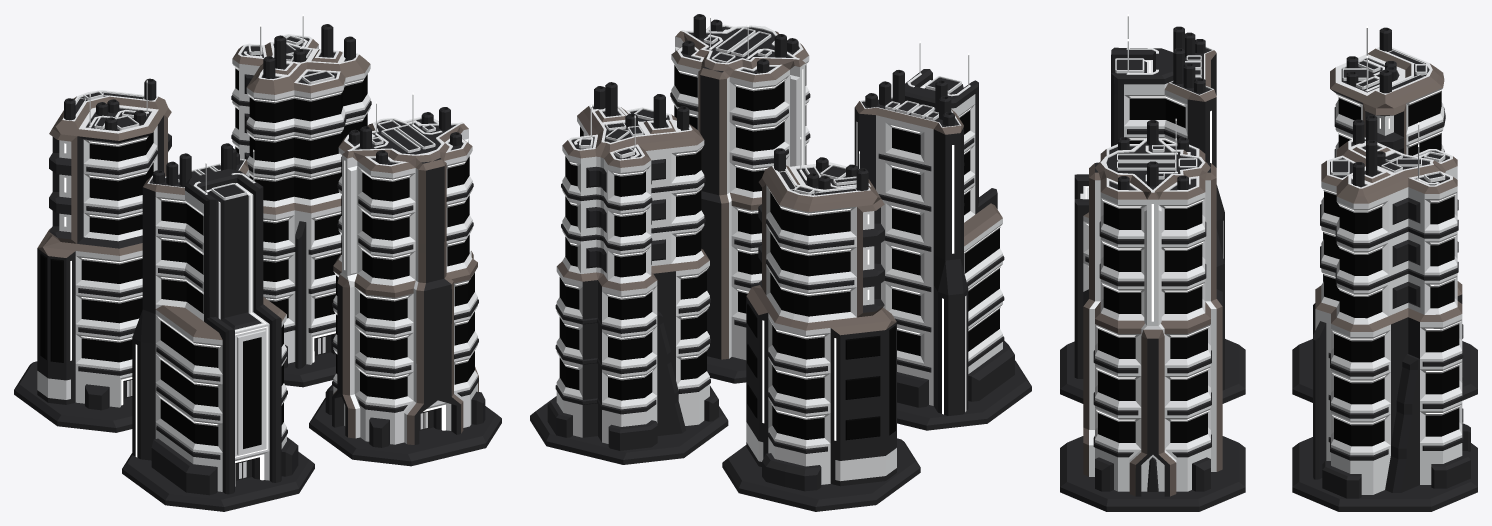
3 views of the same model, side by side, from view 1: azimuth 30°, elevation 25°; view 2: azimuth 150°, elevation 25°; view 3: azimuth 270°, elevation 25° (orthographic). The views are drawn at different scales.
Visible parts, largest first — view 1: Apartment_lvl3_1_Body, Apartment_lvl3_2_Body, Apartment_lvl3_3_Body, Apartment_lvl3_4_Body, Apartment_lvl3_2_Foundation, Apartment_lvl3_1_Foundation, Apartment_lvl3_3_Foundation, Apartment_lvl3_2_Parts, Apartment_lvl3_4_Parts, Apartment_lvl3_1_Parts, Apartment_lvl3_3_Parts, Apartment_lvl3_4_Foundation; view 2: Apartment_lvl3_4_Body, Apartment_lvl3_3_Body, Apartment_lvl3_1_Body, Apartment_lvl3_2_Body, Apartment_lvl3_3_Foundation, Apartment_lvl3_4_Foundation, Apartment_lvl3_1_Foundation, Apartment_lvl3_4_Parts, Apartment_lvl3_1_Parts, Apartment_lvl3_2_Parts, Apartment_lvl3_3_Parts, Apartment_lvl3_2_Foundation; view 3: Apartment_lvl3_4_Body, Apartment_lvl3_2_Body, Apartment_lvl3_1_Body, Apartment_lvl3_3_Body, Apartment_lvl3_2_Foundation, Apartment_lvl3_4_Foundation, Apartment_lvl3_4_Parts, Apartment_lvl3_2_Parts, Apartment_lvl3_1_Parts, Apartment_lvl3_1_Foundation, Apartment_lvl3_3_Parts, Apartment_lvl3_3_Foundation.
Boxes of the visible parts, <box> form: Apartment_lvl3_1_Body: <box>132,159,298,495</box>; Apartment_lvl3_2_Body: <box>325,117,485,447</box>; Apartment_lvl3_3_Body: <box>37,90,171,410</box>; Apartment_lvl3_4_Body: <box>231,34,371,368</box>; Apartment_lvl3_2_Foundation: <box>309,398,501,466</box>; Apartment_lvl3_1_Foundation: <box>122,451,314,511</box>; Apartment_lvl3_3_Foundation: <box>14,361,132,432</box>; Apartment_lvl3_2_Parts: <box>349,92,461,164</box>; Apartment_lvl3_4_Parts: <box>243,14,355,84</box>; Apartment_lvl3_1_Parts: <box>153,143,255,200</box>; Apartment_lvl3_3_Parts: <box>64,78,156,130</box>; Apartment_lvl3_4_Foundation: <box>284,352,335,387</box>; Apartment_lvl3_4_Body: <box>547,104,718,450</box>; Apartment_lvl3_3_Body: <box>746,162,896,491</box>; Apartment_lvl3_1_Body: <box>854,69,1014,415</box>; Apartment_lvl3_2_Body: <box>670,24,810,359</box>; Apartment_lvl3_3_Foundation: <box>722,438,920,511</box>; Apartment_lvl3_4_Foundation: <box>530,396,728,464</box>; Apartment_lvl3_1_Foundation: <box>897,360,1031,430</box>; Apartment_lvl3_4_Parts: <box>574,82,689,158</box>; Apartment_lvl3_1_Parts: <box>865,41,970,126</box>; Apartment_lvl3_2_Parts: <box>682,14,798,72</box>; Apartment_lvl3_3_Parts: <box>774,137,868,195</box>; Apartment_lvl3_2_Foundation: <box>707,356,746,383</box>; Apartment_lvl3_4_Body: <box>1313,137,1470,498</box>; Apartment_lvl3_2_Body: <box>1083,137,1222,496</box>; Apartment_lvl3_1_Body: <box>1074,46,1224,390</box>; Apartment_lvl3_3_Body: <box>1323,47,1445,281</box>; Apartment_lvl3_2_Foundation: <box>1060,436,1245,511</box>; Apartment_lvl3_4_Foundation: <box>1292,437,1477,511</box>; Apartment_lvl3_4_Parts: <box>1331,115,1445,187</box>; Apartment_lvl3_2_Parts: <box>1117,118,1197,189</box>; Apartment_lvl3_1_Parts: <box>1115,14,1205,92</box>; Apartment_lvl3_1_Foundation: <box>1060,339,1245,403</box>; Apartment_lvl3_3_Parts: <box>1342,25,1427,93</box>; Apartment_lvl3_3_Foundation: <box>1292,339,1477,402</box>.
Size of the model in its own units: 3600 by 3310 by 3600.
1 material, 1 textured.
